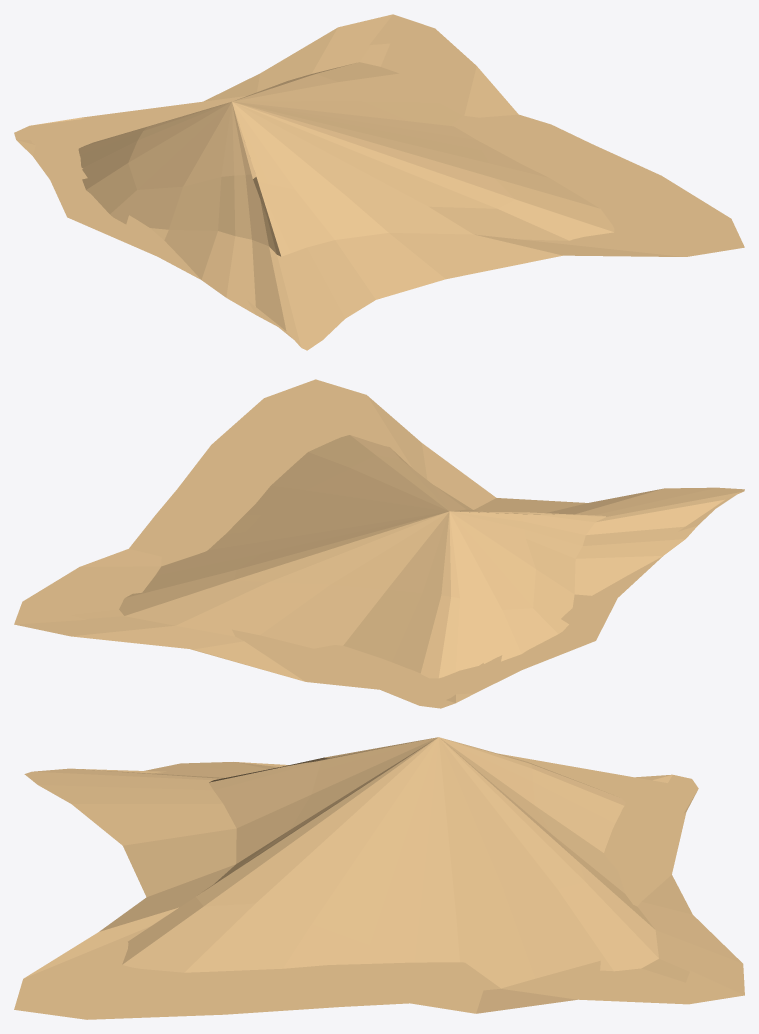
File: sandhill3.fbx
3 renders of one model, top to bottom at view 1: azimuth 30°, elevation 25°; view 2: azimuth 150°, elevation 25°; view 3: azimuth 270°, elevation 25°, orthographic. The views are drawn at different scales.
Parts seen in each view (by area): view 1: Cone.002; view 2: Cone.002; view 3: Cone.002.
Boxes of the visible parts, box(x1,y1,x2,y2) form: Cone.002: box(14, 14, 744, 350); Cone.002: box(14, 379, 744, 708); Cone.002: box(14, 737, 744, 1019).
Size of the model in its own units: 4628 by 920 by 5258.
